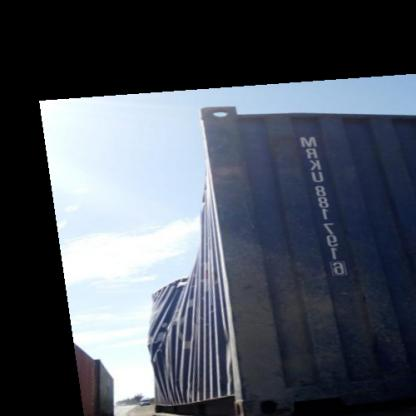Damage: (146, 256, 213, 406)
